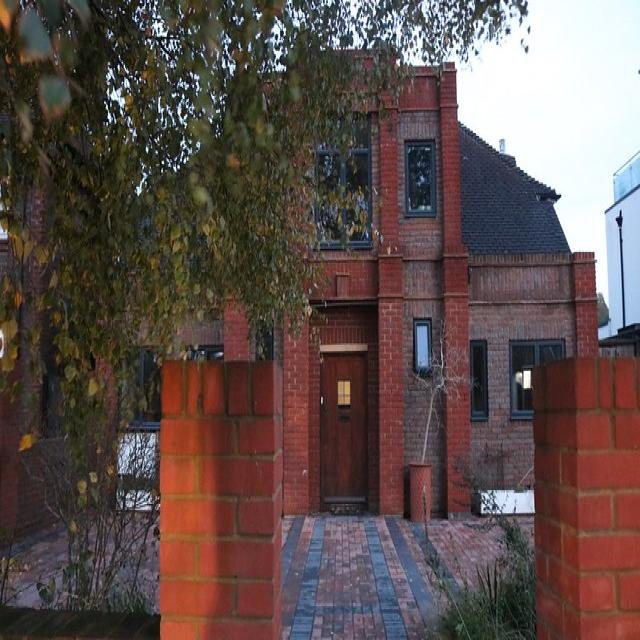building: (93, 41, 608, 534)
